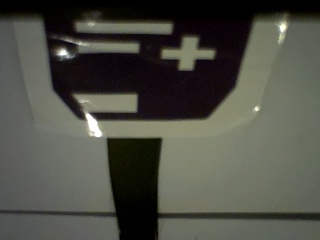Supply_Station: (41, 17, 256, 122)
